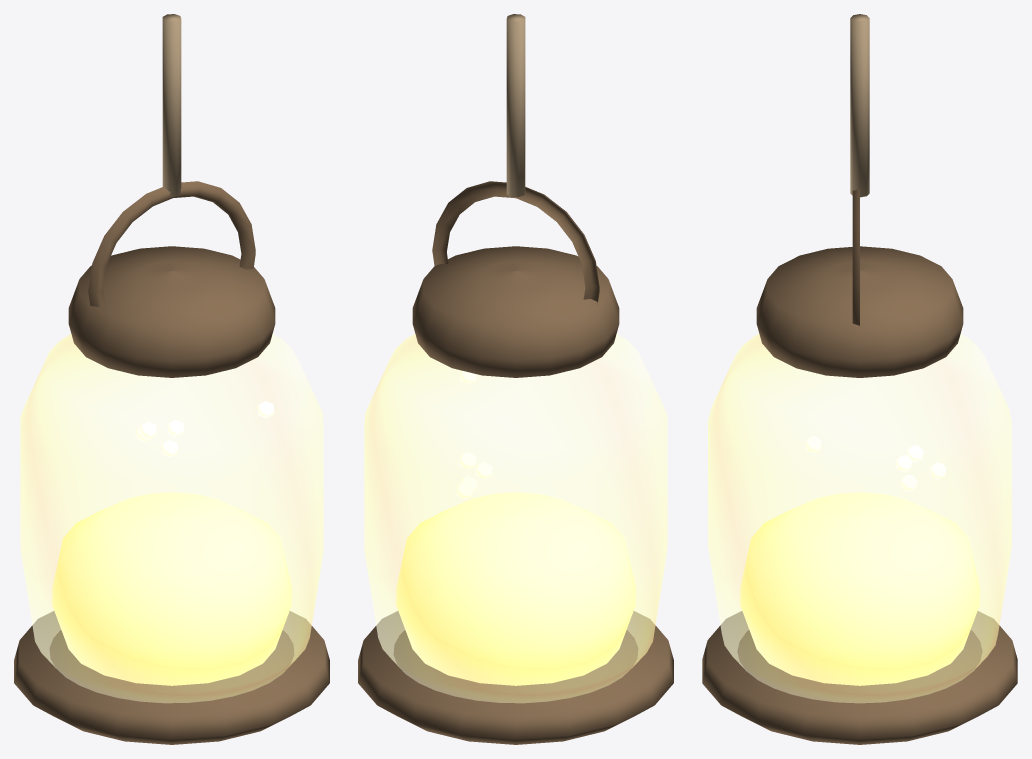
The model's file is mwm_jarlantern.glb.
3 views of the same model, side by side, from view 1: azimuth 30°, elevation 25°; view 2: azimuth 150°, elevation 25°; view 3: azimuth 270°, elevation 25° (orthographic).
Parts seen in each view (by area): view 1: jar, glow, base, lid, Torus, Cylinder; view 2: jar, glow, lid, base, Torus, Cylinder; view 3: jar, glow, lid, base, Cylinder, Torus.
Part boxes in pixels (x1,y1,x2,y2): jar: (20, 334, 323, 702); glow: (52, 492, 291, 685); base: (14, 611, 329, 744); lid: (68, 246, 275, 377); Torus: (88, 181, 255, 306); Cylinder: (162, 14, 181, 196); jar: (364, 334, 667, 702); glow: (396, 492, 635, 685); lid: (412, 246, 619, 377); base: (358, 611, 673, 744); Torus: (432, 181, 599, 305); Cylinder: (506, 14, 525, 197); jar: (708, 334, 1011, 702); glow: (740, 492, 979, 685); lid: (756, 246, 963, 377); base: (702, 611, 1017, 744); Cylinder: (850, 14, 869, 197); Torus: (852, 189, 859, 325).
Bounding box in the file's own units: 1.16 × 2.67 × 1.14.
